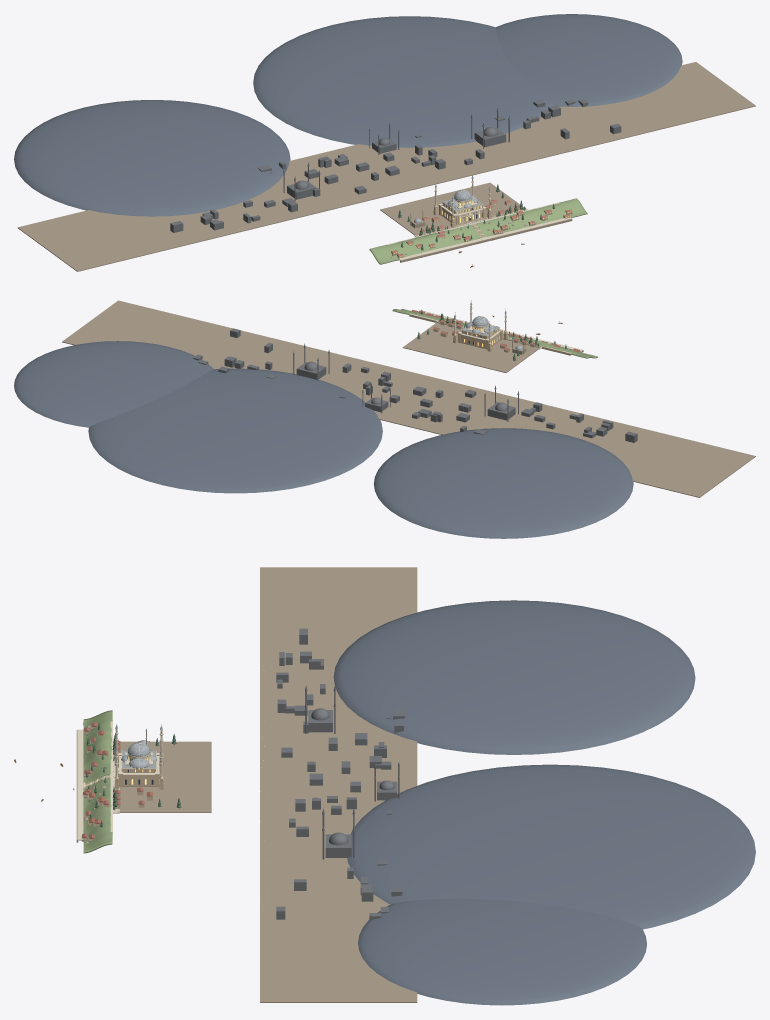
Rendered from hagia_sophia.glb.
3 renders of one model, top to bottom at view 1: azimuth 30°, elevation 25°; view 2: azimuth 150°, elevation 25°; view 3: azimuth 270°, elevation 25°, orthographic. The views are drawn at different scales.
Parts seen in each view (by area): view 1: Hill1, FarShore, Hill0, Hill2, Hillside, Land, LowerQuay, LowerSeawall; view 2: Hill1, FarShore, Hill0, Hill2, Land, Hillside; view 3: Hill1, FarShore, Hill0, Hill2, Land, Hillside, LowerQuay.
Boxes of the visible parts, left/top/right/bottom form: Hill1: left=253, top=16, right=553, bottom=147; FarShore: left=17, top=62, right=755, bottom=271; Hill0: left=14, top=100, right=290, bottom=216; Hill2: left=495, top=14, right=682, bottom=106; Hillside: left=369, top=198, right=587, bottom=264; Land: left=380, top=182, right=523, bottom=236; LowerQuay: left=398, top=217, right=571, bottom=260; LowerSeawall: left=400, top=218, right=572, bottom=262; Hill1: left=88, top=368, right=382, bottom=493; FarShore: left=62, top=300, right=755, bottom=497; Hill0: left=374, top=428, right=633, bottom=538; Hill2: left=14, top=341, right=213, bottom=427; Land: left=402, top=323, right=540, bottom=372; Hillside: left=392, top=309, right=597, bottom=358; Hill1: left=347, top=764, right=755, bottom=929; FarShore: left=260, top=567, right=417, bottom=1002; Hill0: left=333, top=600, right=695, bottom=754; Hill2: left=358, top=898, right=646, bottom=1005; Land: left=119, top=741, right=211, bottom=812; Hillside: left=83, top=710, right=112, bottom=853; LowerQuay: left=77, top=729, right=83, bottom=840.
Bounding box in the file's own units: 1710 × 98 × 1227.
